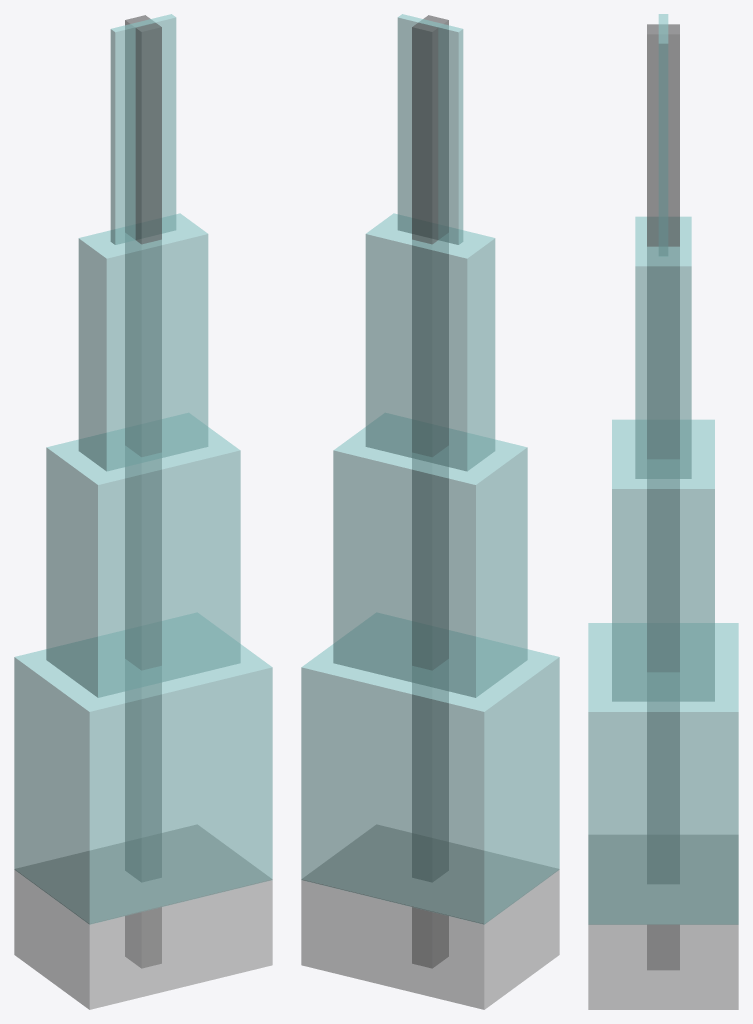
File: core.glb
3 renders of one model, left to right at view 1: azimuth 30°, elevation 25°; view 2: azimuth 150°, elevation 25°; view 3: azimuth 270°, elevation 25°, orthographic.
Parts seen in each view (by area): view 1: 90057f70-64fb-4c19-8820-2253e67d5ad0_mesh, abb906c1-c6d5-47ed-92fd-80c4dfc5be15_mesh, b8dcd3ea-10f4-434c-b525-6c0afdcb11d8_mesh, b43b70b6-9ca6-49ef-8396-9a7d992d221d_mesh, d897e470-7d72-4f17-a0a0-bde44487d1f0_mesh, 9c3a0828-db39-453a-b679-056488bfa7ee_mesh, ebee48fc-160f-4229-a623-0bf15b1d289a_mesh; view 2: 90057f70-64fb-4c19-8820-2253e67d5ad0_mesh, abb906c1-c6d5-47ed-92fd-80c4dfc5be15_mesh, b8dcd3ea-10f4-434c-b525-6c0afdcb11d8_mesh, b43b70b6-9ca6-49ef-8396-9a7d992d221d_mesh, d897e470-7d72-4f17-a0a0-bde44487d1f0_mesh, 9c3a0828-db39-453a-b679-056488bfa7ee_mesh, ebee48fc-160f-4229-a623-0bf15b1d289a_mesh; view 3: 90057f70-64fb-4c19-8820-2253e67d5ad0_mesh, b8dcd3ea-10f4-434c-b525-6c0afdcb11d8_mesh, abb906c1-c6d5-47ed-92fd-80c4dfc5be15_mesh, b43b70b6-9ca6-49ef-8396-9a7d992d221d_mesh, ebee48fc-160f-4229-a623-0bf15b1d289a_mesh, d897e470-7d72-4f17-a0a0-bde44487d1f0_mesh, 9c3a0828-db39-453a-b679-056488bfa7ee_mesh.
Boxes of the visible parts, box(x1,y1,x2,y2) form: 90057f70-64fb-4c19-8820-2253e67d5ad0_mesh: box(14, 613, 272, 924); abb906c1-c6d5-47ed-92fd-80c4dfc5be15_mesh: box(46, 413, 240, 697); b8dcd3ea-10f4-434c-b525-6c0afdcb11d8_mesh: box(125, 15, 161, 967); b43b70b6-9ca6-49ef-8396-9a7d992d221d_mesh: box(78, 213, 208, 471); d897e470-7d72-4f17-a0a0-bde44487d1f0_mesh: box(14, 870, 272, 1009); 9c3a0828-db39-453a-b679-056488bfa7ee_mesh: box(110, 14, 176, 244); ebee48fc-160f-4229-a623-0bf15b1d289a_mesh: box(14, 824, 272, 924); 90057f70-64fb-4c19-8820-2253e67d5ad0_mesh: box(301, 613, 559, 924); abb906c1-c6d5-47ed-92fd-80c4dfc5be15_mesh: box(333, 413, 527, 697); b8dcd3ea-10f4-434c-b525-6c0afdcb11d8_mesh: box(412, 15, 448, 967); b43b70b6-9ca6-49ef-8396-9a7d992d221d_mesh: box(365, 213, 495, 471); d897e470-7d72-4f17-a0a0-bde44487d1f0_mesh: box(301, 870, 559, 1009); 9c3a0828-db39-453a-b679-056488bfa7ee_mesh: box(397, 14, 463, 244); ebee48fc-160f-4229-a623-0bf15b1d289a_mesh: box(301, 824, 559, 924); 90057f70-64fb-4c19-8820-2253e67d5ad0_mesh: box(588, 623, 738, 924); b8dcd3ea-10f4-434c-b525-6c0afdcb11d8_mesh: box(647, 24, 679, 969); abb906c1-c6d5-47ed-92fd-80c4dfc5be15_mesh: box(612, 419, 714, 701); b43b70b6-9ca6-49ef-8396-9a7d992d221d_mesh: box(635, 216, 691, 478); ebee48fc-160f-4229-a623-0bf15b1d289a_mesh: box(588, 835, 738, 924); d897e470-7d72-4f17-a0a0-bde44487d1f0_mesh: box(588, 924, 738, 1009); 9c3a0828-db39-453a-b679-056488bfa7ee_mesh: box(658, 14, 668, 256).
Size of what is drawn, in the model's own units: 45 by 220 by 32.
